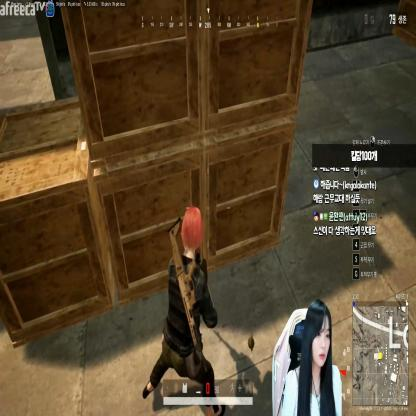streamer: (281, 298, 341, 416)
